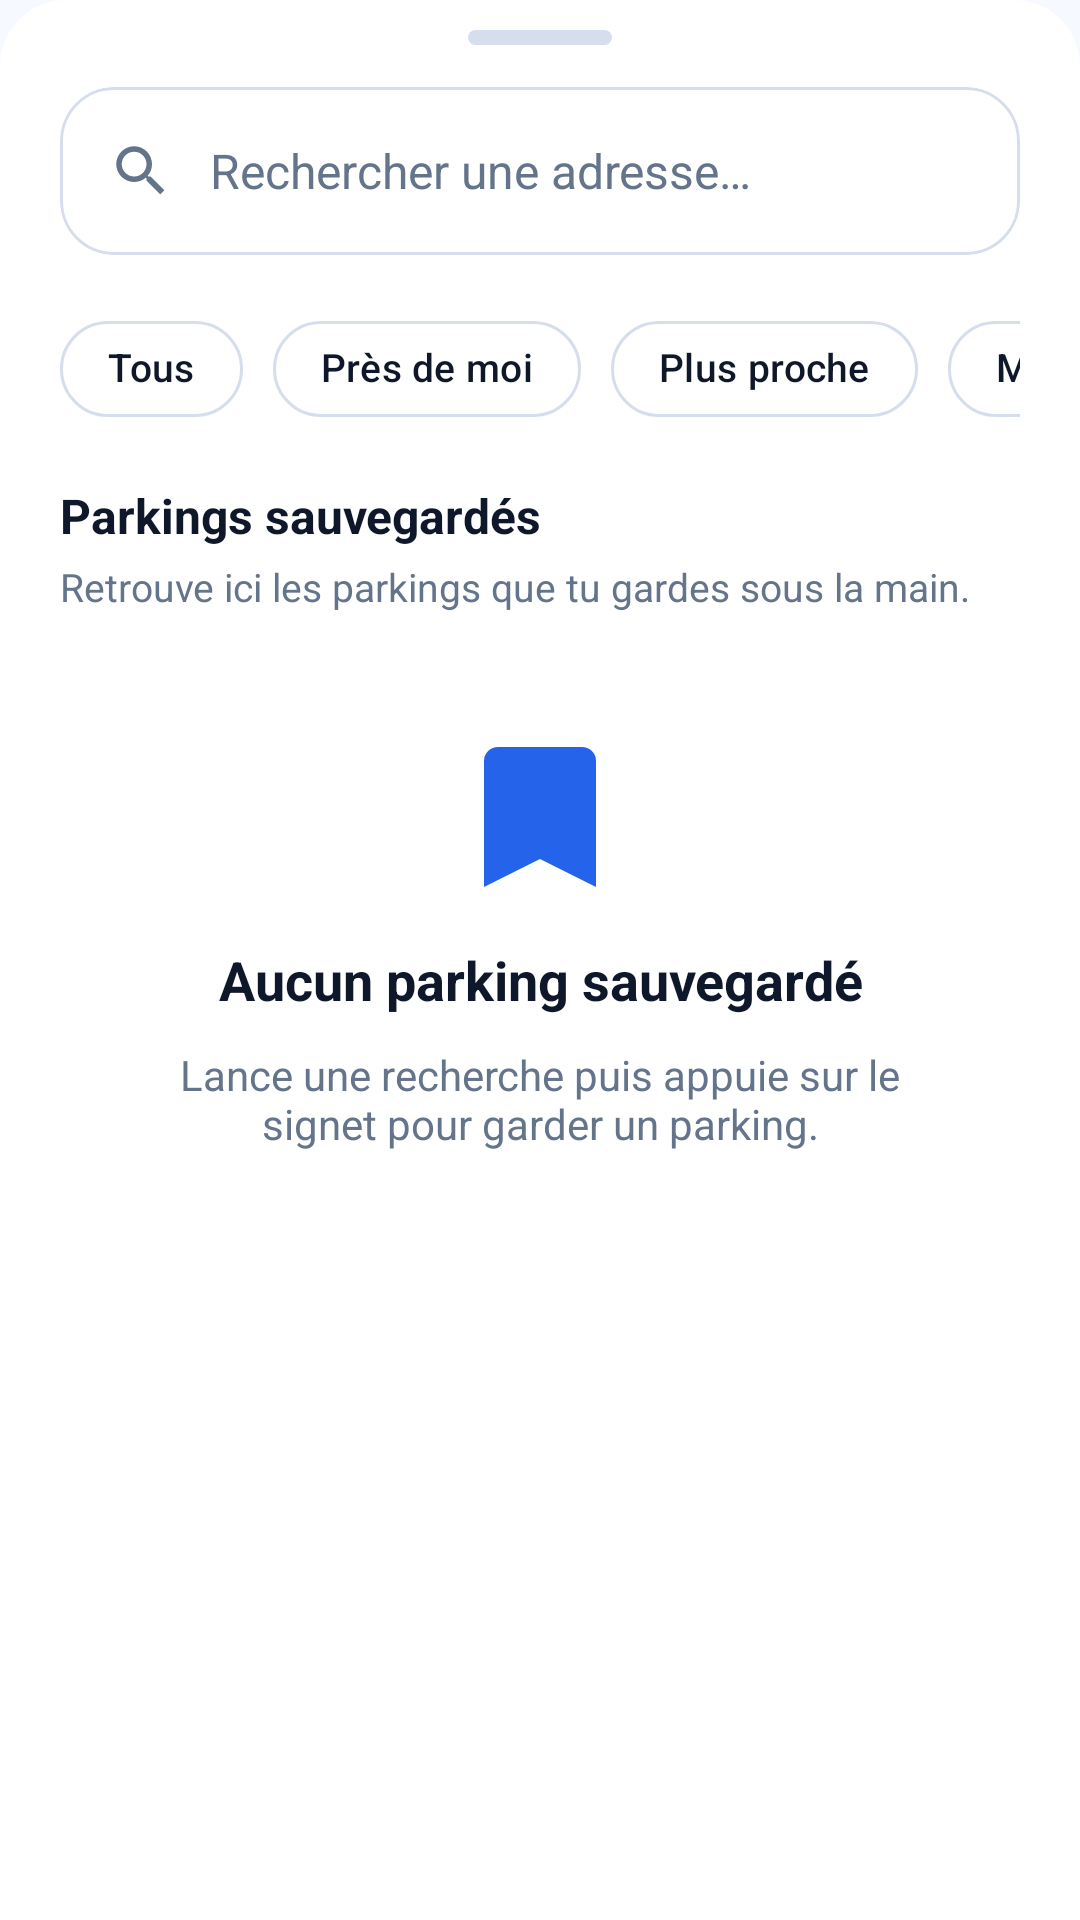

Where icons sit on this 1080w x 1920h app screen, as (x1, y1, x2, y2):
Parkings sauvegardés: (484, 747, 596, 887)
